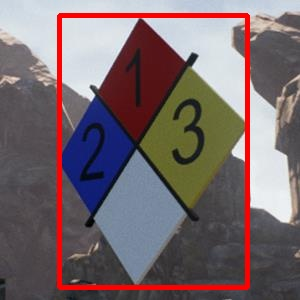nfpa: (59, 15, 247, 287)
